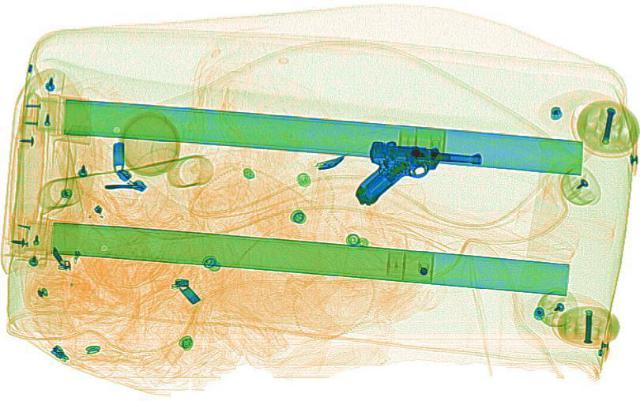Gun: (346, 140, 484, 213)
